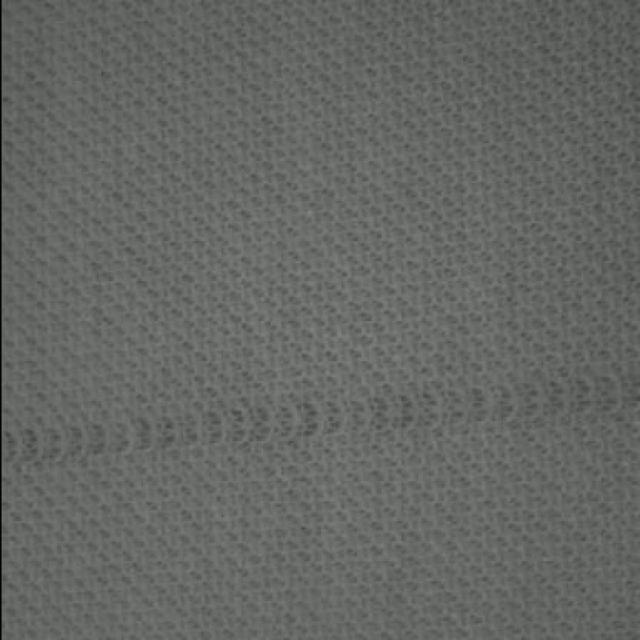Line: (5, 373, 636, 466)
